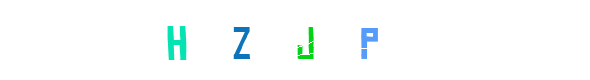H: (144, 0, 224, 80)
J: (267, 0, 347, 80)
P: (268, 0, 348, 80)
Z: (255, 0, 335, 80)
